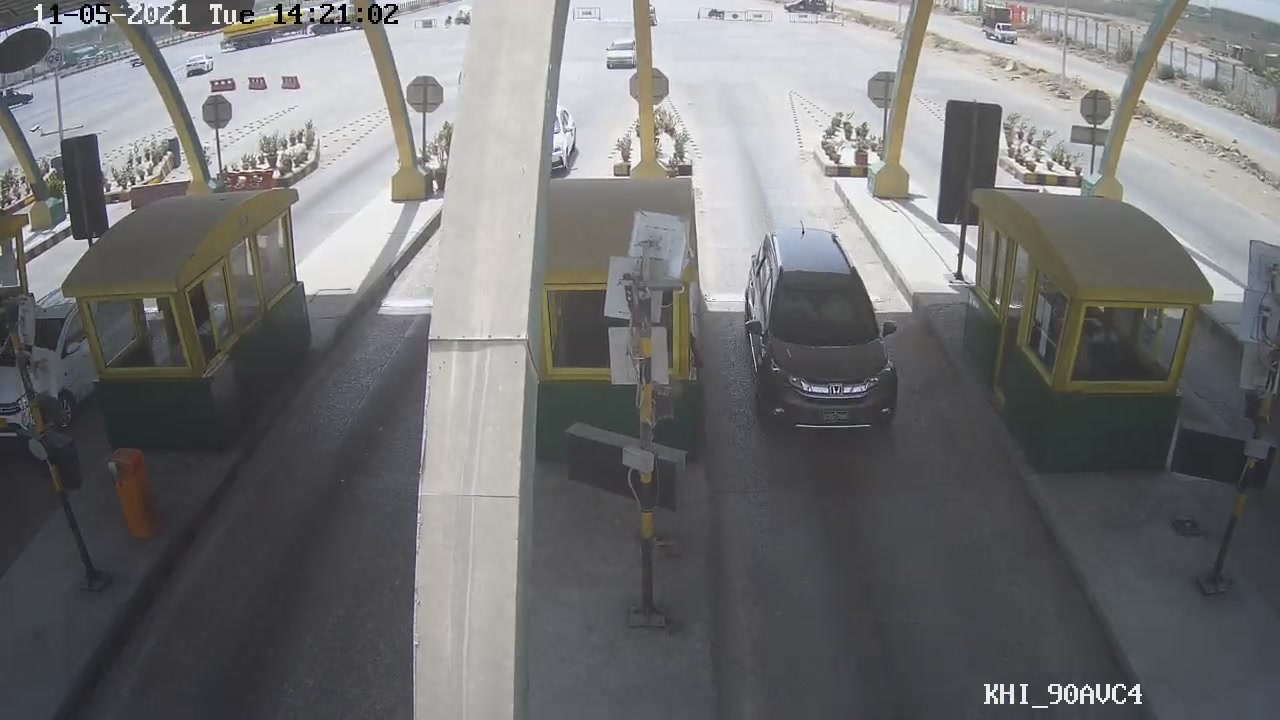F1: (738, 218, 904, 432)
